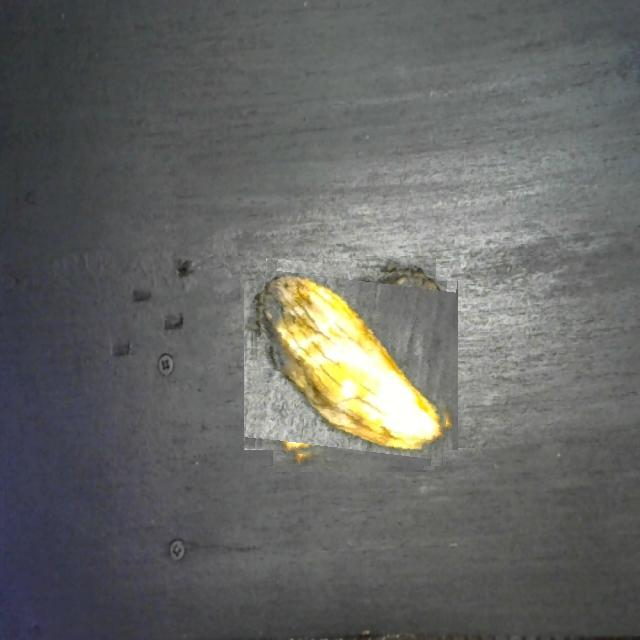biodegradable: (250, 264, 452, 466)
